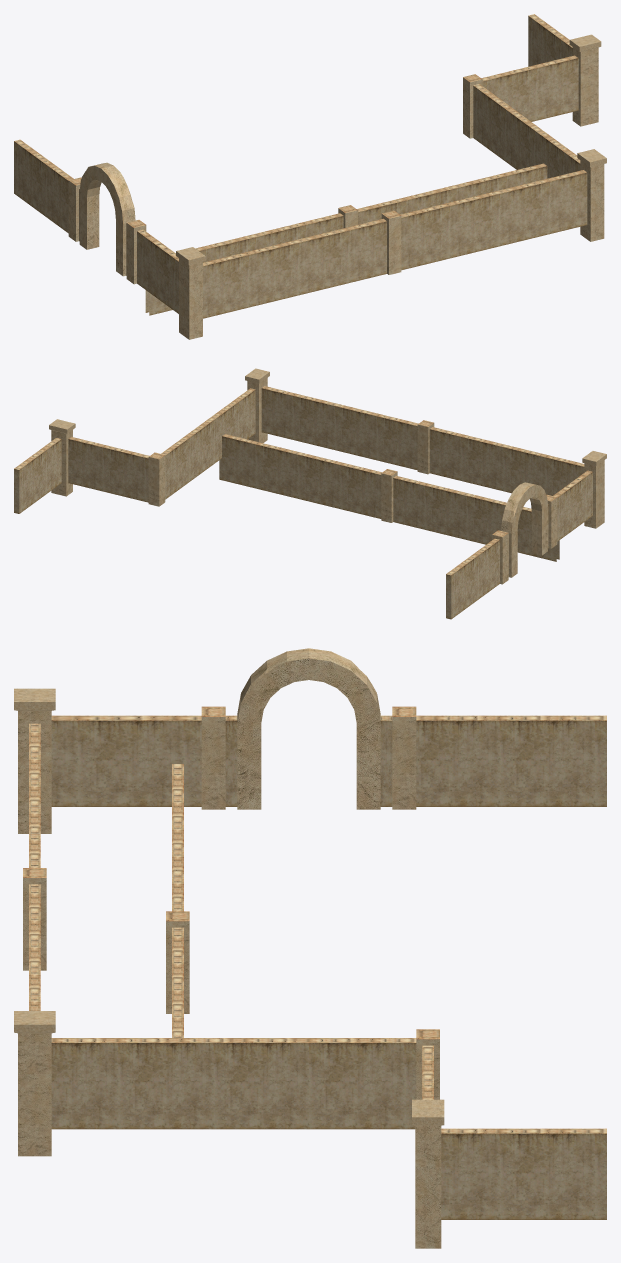
The model's file is poi_tato_corral_half_64x64_s03_l0.fbx.
3 views of the same model, one above another, from view 1: azimuth 30°, elevation 25°; view 2: azimuth 150°, elevation 25°; view 3: azimuth 270°, elevation 25° (orthographic). The views are drawn at different scales.
Parts seen in each view (by area): view 1: mesh_node; view 2: mesh_node; view 3: mesh_node.
Part boxes in pixels (x1,y1,x2,y2): mesh_node: (14, 14, 606, 339); mesh_node: (14, 368, 606, 619); mesh_node: (14, 648, 606, 1248).
Size of the model in its own units: 42.55 by 9 by 24.87.
